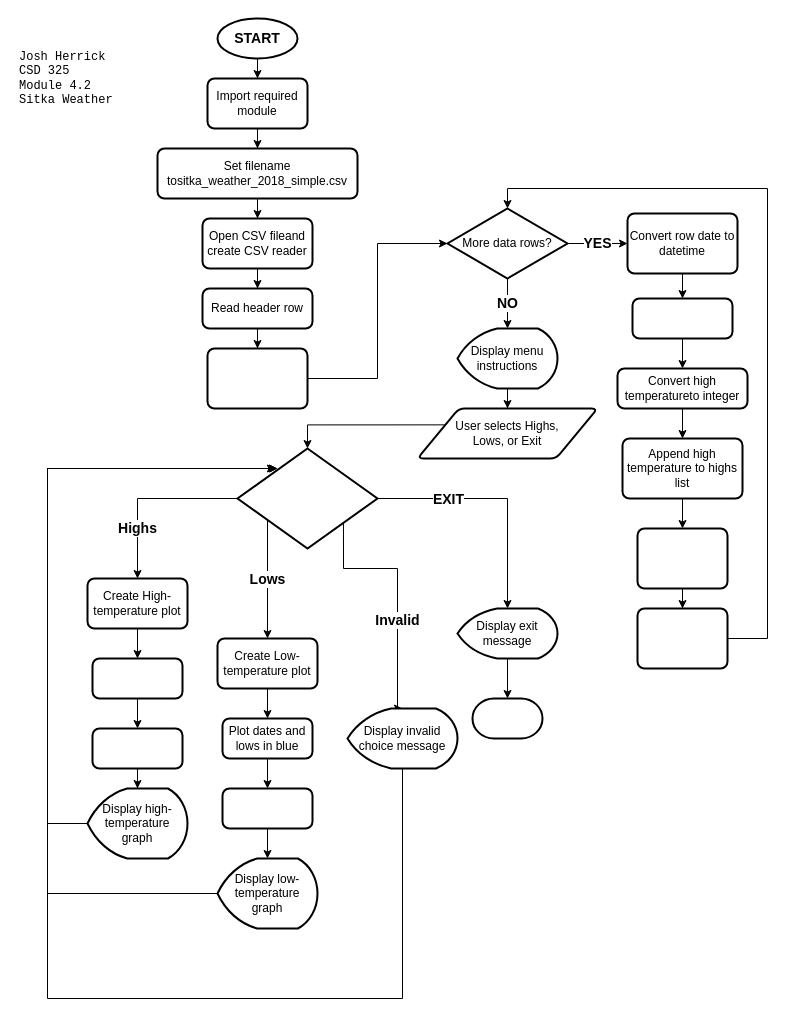
Image size: 793x1024. Some labels were removed from this diagram. The shapes that lost their labels are listed below. From the top down, each one's box as (x1, y1, x2, y2) in pixels, then its label:
(631, 297, 733, 339): Append date to dates list
(206, 347, 308, 409): Create empty dates, highs, and lows lists
(236, 447, 378, 549): What did the user choose?
(636, 527, 728, 589): Convert low temperature to integer
(636, 607, 728, 669): Append low temperature to lows list
(91, 657, 183, 699): Plot dates and highs in red
(471, 697, 543, 739): END
(91, 727, 183, 769): Format high temperatures
(221, 787, 313, 829): Format low temperatures
